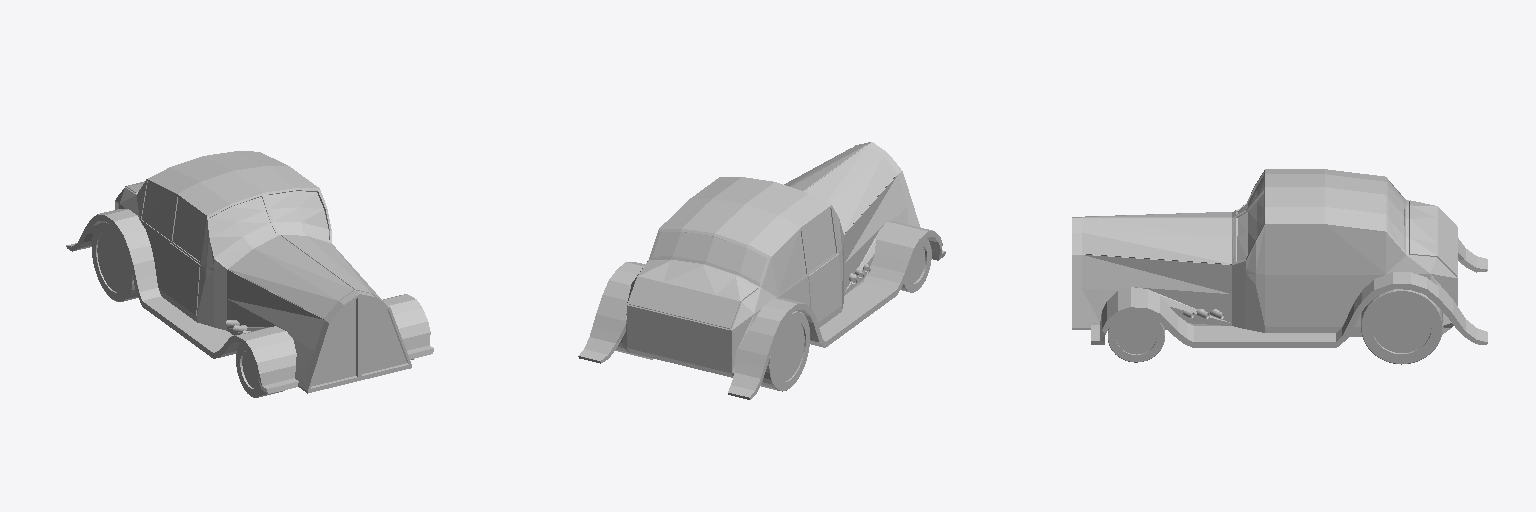
File: hotrod.obj
The picture shows the model from 3 angles: view 1: azimuth 30°, elevation 25°; view 2: azimuth 150°, elevation 25°; view 3: azimuth 270°, elevation 25°; orthographic projection.
Visible parts, largest first — view 1: Cube; view 2: Cube; view 3: Cube.
Part boxes in pixels (x1,y1,x2,y2): Cube: (66,151,433,397); Cube: (578,142,945,399); Cube: (1072,169,1487,364).
Bounding box in the file's own units: 3.27 × 2.5 × 6.88.